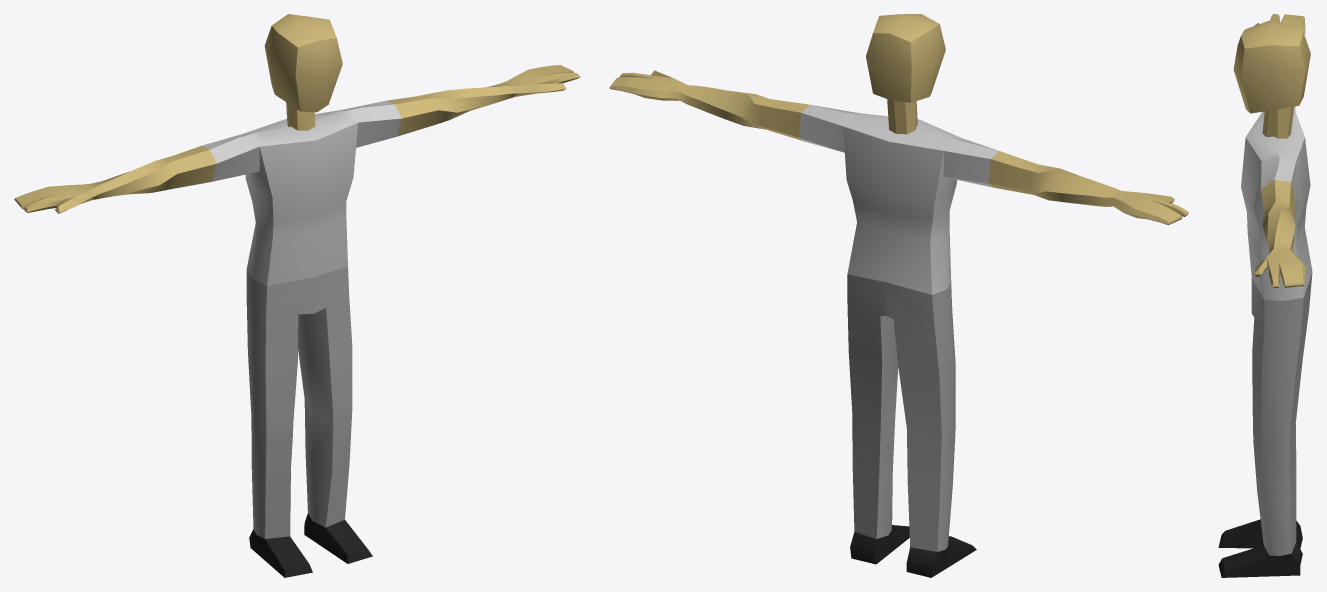
Rendered from OwnerV2.fbx.
3 views of the same model, side by side, from view 1: azimuth 30°, elevation 25°; view 2: azimuth 150°, elevation 25°; view 3: azimuth 270°, elevation 25° (orthographic). The views are drawn at different scales.
Parts seen in each view (by area): view 1: Torso_Arms_Hands, Pants, Head, Shoes; view 2: Torso_Arms_Hands, Pants, Head, Shoes; view 3: Pants, Torso_Arms_Hands, Head, Shoes.
Boxes of the visible parts, x1=… form: Torso_Arms_Hands: x1=14, y1=65, x2=580, y2=285; Pants: x1=246, y1=266, x2=352, y2=538; Head: x1=264, y1=14, x2=342, y2=130; Shoes: x1=249, y1=513, x2=372, y2=577; Torso_Arms_Hands: x1=609, y1=70, x2=1188, y2=294; Pants: x1=847, y1=274, x2=955, y2=551; Head: x1=866, y1=14, x2=945, y2=134; Shoes: x1=850, y1=525, x2=976, y2=577; Pants: x1=1251, y1=273, x2=1312, y2=555; Torso_Arms_Hands: x1=1241, y1=14, x2=1312, y2=300; Head: x1=1233, y1=19, x2=1310, y2=138; Shoes: x1=1218, y1=519, x2=1302, y2=577.
Bounding box in the file's own units: 200 × 183 × 29.37.
